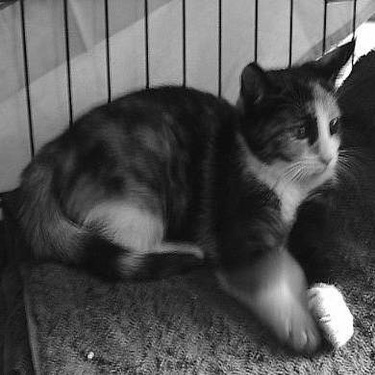cat: (14, 38, 356, 354)
